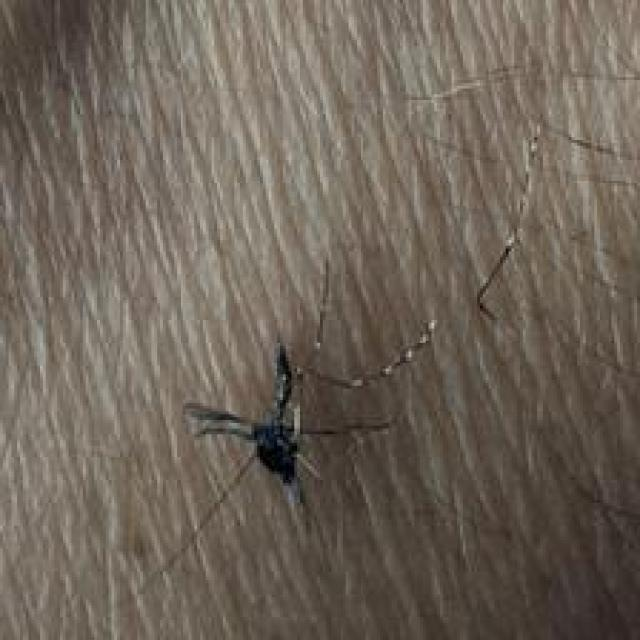Aedes albopictus: (181, 340, 393, 511)
